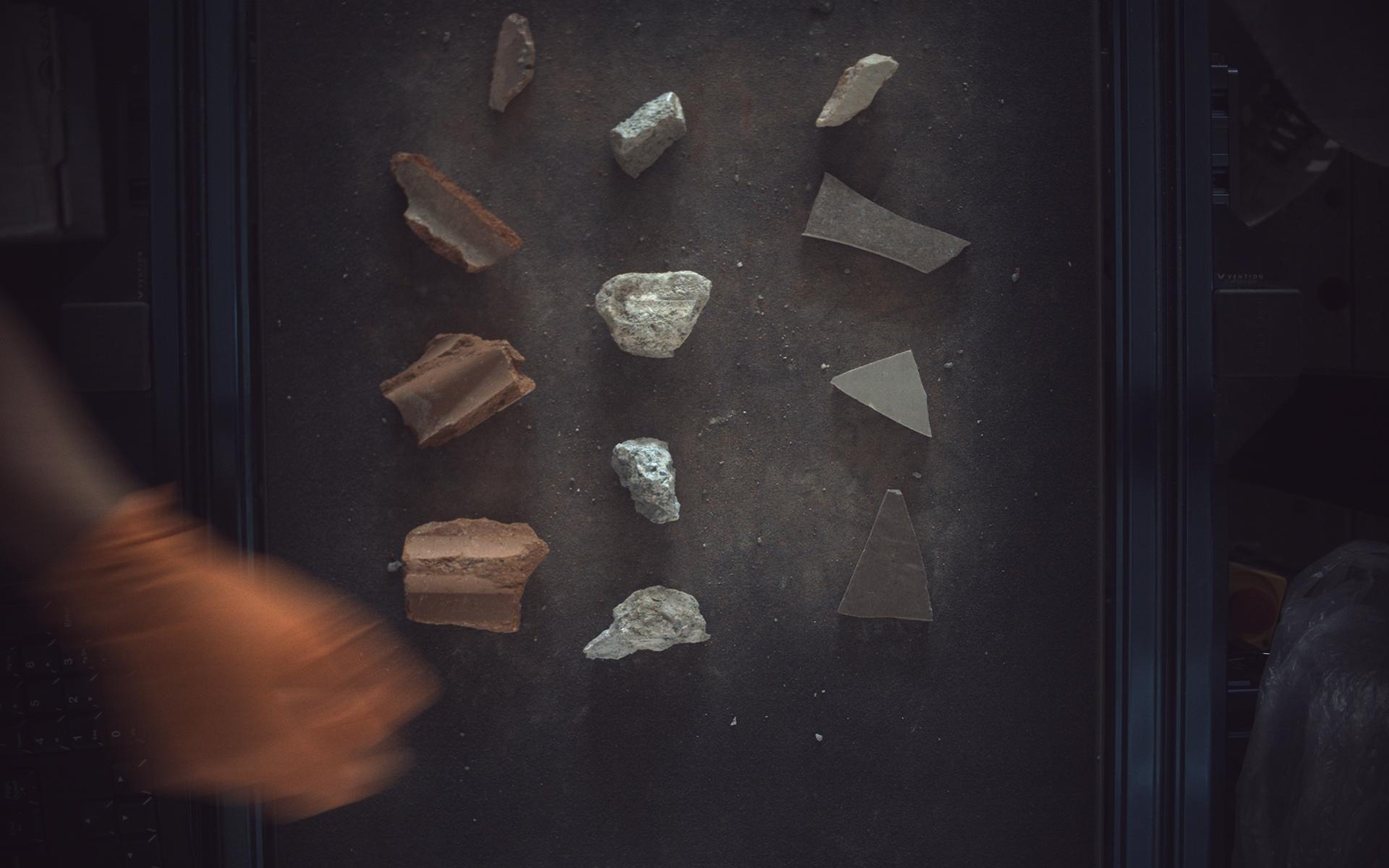brick: (381, 333, 535, 448), (402, 519, 549, 634), (391, 151, 522, 272), (489, 12, 536, 111)
concrete: (596, 270, 711, 358), (585, 586, 711, 660), (611, 90, 687, 176), (612, 438, 681, 524)
tile: (805, 172, 972, 273), (840, 490, 935, 622), (833, 350, 933, 438), (817, 52, 900, 127)
